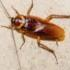cockroach: (10, 12, 66, 48)
